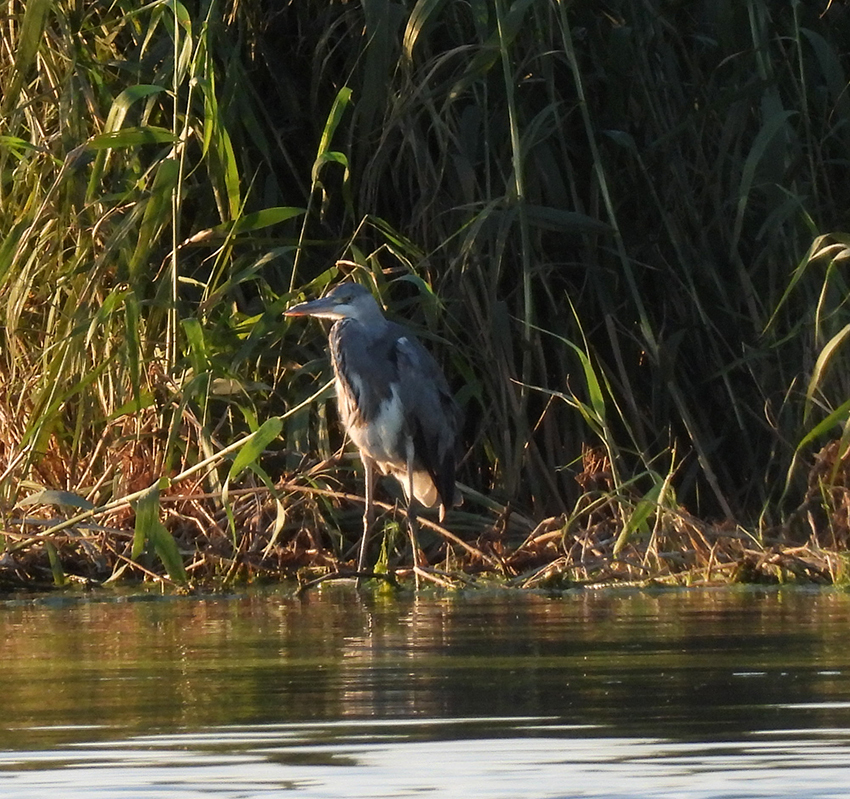heron: (278, 283, 464, 608)
